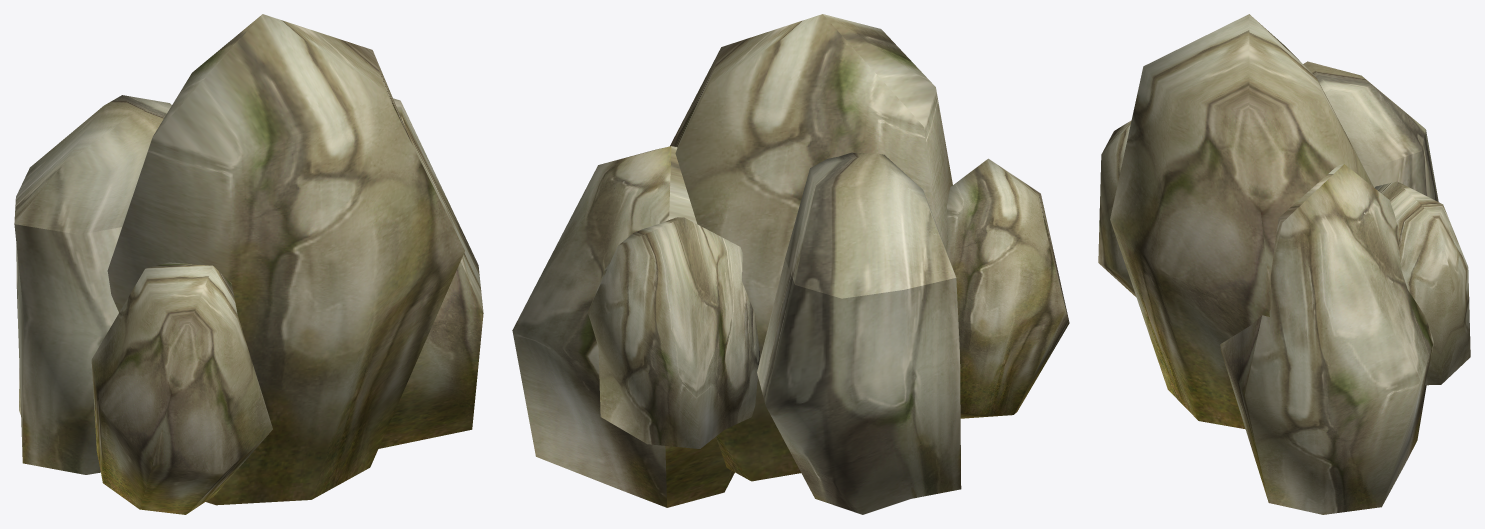
The model's file is a_SWCwallA06.glb.
The picture shows the model from 3 angles, left to right: view 1: azimuth 30°, elevation 25°; view 2: azimuth 150°, elevation 25°; view 3: azimuth 270°, elevation 25°; orthographic projection. The views are drawn at different scales.
Visible parts, largest first — view 1: a_SWCwallA06; view 2: a_SWCwallA06; view 3: a_SWCwallA06.
Part boxes in pixels (<box>): a_SWCwallA06: <box>14,14,483,514</box>; a_SWCwallA06: <box>512,14,1069,514</box>; a_SWCwallA06: <box>1098,14,1470,514</box>.
Bounding box in the file's own units: 2.8 × 2.76 × 2.27.
1 material, 1 textured.
